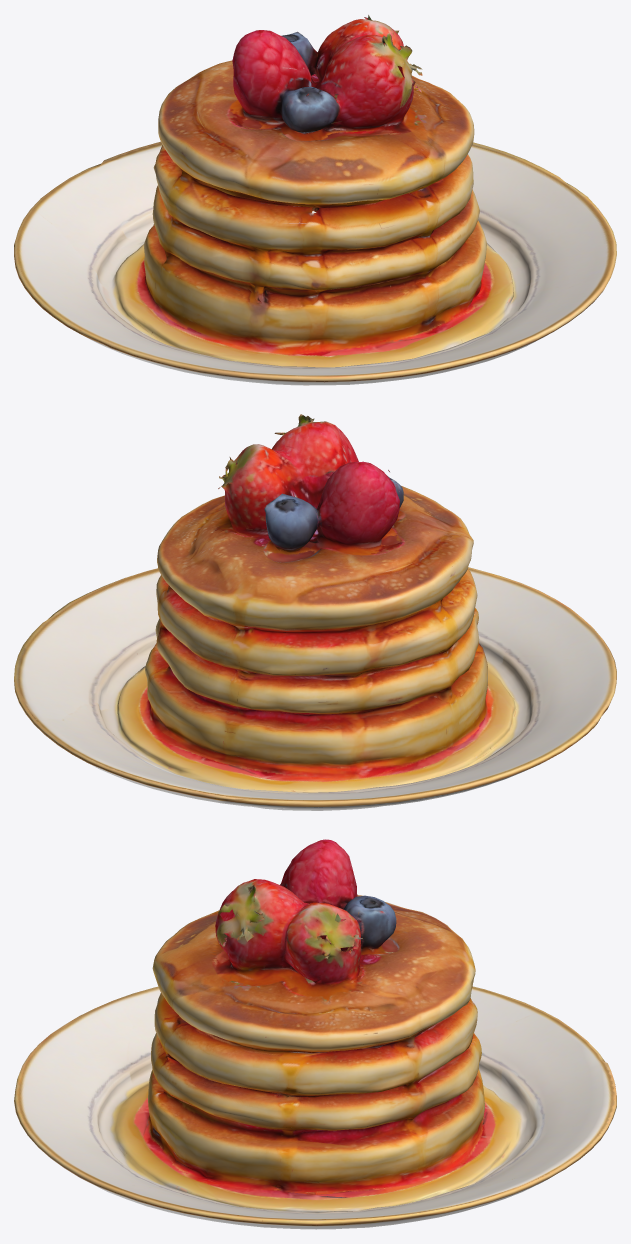
Rendered from Berry_Delight_Pancake_0516145304_texture.fbx.
3 renders of one model, top to bottom at view 1: azimuth 30°, elevation 25°; view 2: azimuth 150°, elevation 25°; view 3: azimuth 270°, elevation 25°, orthographic.
Parts seen in each view (by area): view 1: Mesh1; view 2: Mesh1; view 3: Mesh1.
Part boxes in pixels (bbox=[...]): Mesh1: bbox=[14, 15, 616, 385]; Mesh1: bbox=[14, 414, 616, 810]; Mesh1: bbox=[14, 839, 616, 1229].
Size of the model in its own units: 200 by 102 by 199.
Materials: 1 (1 with a texture image).
